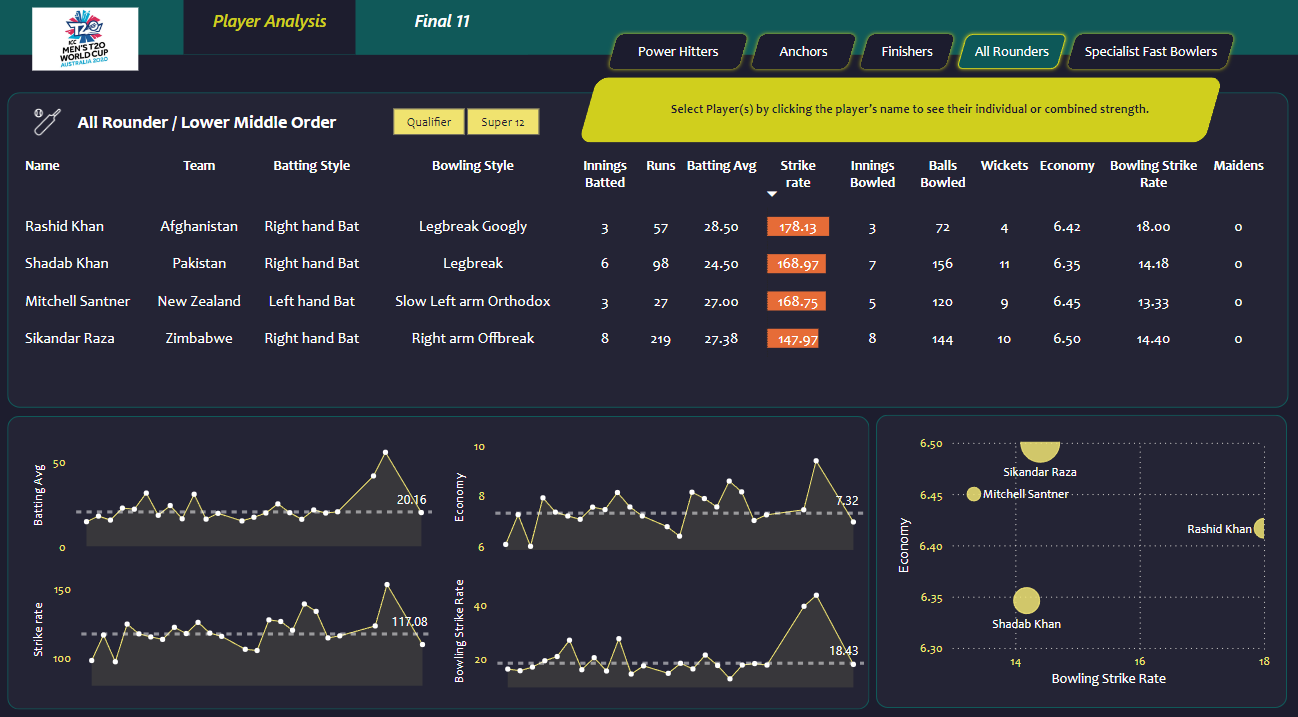

This screenshot's page, from the dashboard's own definition file:
{"tool":"powerbi","page":{"name":"All Rounder /Low","canvas":[640,720],"ordinal":7},"visuals":[{"type":"shape","box":[320.6,19,260,30.9],"z":0,"group":"g1"},{"type":"shape","box":[72,241.7,260,32],"z":0,"group":"g2"},{"type":"shape","box":[10,470,620,241.2],"z":0},{"type":"shape","box":[72,486.7,260,32],"z":0,"group":"g4"},{"type":"image","box":[270.8,16.5,44,36],"z":1000,"group":"g1"},{"type":"shape","box":[10,191.2,620,273.8],"z":1000},{"type":"shape","box":[0,0,640,176.2],"z":2000},{"type":"textbox","box":[964.9,274.5,80.7,31.1],"z":3000},{"type":"simpleImageEBC4593F96F1425FB3D84C5BF02B5075","fields":{"imageURL":["dim_player.image"],"altText":["dim_player.name"]},"box":[103.8,16.2,153.8,160],"z":4000},{"type":"shape","box":[285.3,91,262.7,29.1],"z":5000},{"type":"shape","box":[285.3,123.8,83.6,21.8],"z":6000},{"type":"shape","box":[270.8,91,11.8,58.2],"z":7000},{"type":"group","id":"g1","title":"Group 2","box":[270.8,16.5,309.8,36],"z":8000},{"type":"shape","box":[59,160,520,63.6],"z":8000,"group":"g3"},{"type":"group","id":"g2","title":"Group 2","box":[72,241.7,260,32],"z":9000},{"type":"group","id":"g3","title":"Group 1","box":[59,160,520,63.6],"z":10000},{"type":"card","fields":{"Values":["Key_Measures.Bat Avg"]},"box":[82.8,161.3,91.8,60],"z":10000,"group":"g3"},{"type":"card","fields":{"Values":["Key_Measures.Strike rate"]},"box":[199.2,161.3,92.7,60],"z":11000,"group":"g3"},{"type":"shape","box":[18.4,297.5,65,43.8],"z":11000},{"type":"card","fields":{"Values":["Key_Measures.Economy"]},"box":[316.5,161.3,109.1,60],"z":12000,"group":"g3"},{"type":"shape","box":[18.1,388.9,65,43.8],"z":12000},{"type":"card","fields":{"Values":["Key_Measures.Bowling Strike Rate"]},"box":[453.7,161.3,100,60],"z":13000,"group":"g3"},{"type":"shape","box":[18.1,561,65,43.8],"z":13000},{"type":"shape","box":[18.1,642.8,65,42.5],"z":14000},{"type":"image","box":[20,239,44,36],"z":15000},{"type":"group","id":"g4","title":"Group 2","box":[72,486.7,260,32],"z":16000},{"type":"image","box":[20,484,43.8,36.2],"z":17000},{"type":"pivotTable","fields":{"Columns":["dim_match_summary.Match"],"Values":["Key_Measures.Bat Avg"]},"box":[81,286,549,74],"z":18000},{"type":"pivotTable","fields":{"Columns":["dim_match_summary.Match"],"Values":["Key_Measures.Strike rate"]},"box":[84,380,549,70],"z":19000},{"type":"pivotTable","fields":{"Columns":["dim_match_summary.Match"],"Values":["Key_Measures.Bowling Strike Rate"]},"box":[84,633,549,69],"z":20000},{"type":"pivotTable","fields":{"Columns":["dim_match_summary.Match"],"Values":["Key_Measures.Economy"]},"box":[84,551,550,68],"z":21000}]}

Visuals, with their boxes on the page's 640x720 design canvas (x1, y1, x2, y2). These are canvas units, not pixel positions in the 1298x717 screenshot, which may show the page scaled, cropped or inside an application window:
shape: (321, 19, 581, 50)
shape: (72, 242, 332, 274)
shape: (10, 470, 630, 711)
shape: (72, 487, 332, 519)
image: (271, 16, 315, 52)
shape: (10, 191, 630, 465)
shape: (0, 0, 640, 176)
textbox: (965, 274, 1046, 306)
simpleImageEBC4593F96F1425FB3D84C5BF02B5075 - dim_player.image x dim_player.name: (104, 16, 258, 176)
shape: (285, 91, 548, 120)
shape: (285, 124, 369, 146)
shape: (271, 91, 283, 149)
"Group 2" group: (271, 16, 581, 52)
shape: (59, 160, 579, 224)
"Group 2" group: (72, 242, 332, 274)
"Group 1" group: (59, 160, 579, 224)
card - Key_Measures.Bat Avg: (83, 161, 175, 221)
card - Key_Measures.Strike rate: (199, 161, 292, 221)
shape: (18, 298, 83, 341)
card - Key_Measures.Economy: (316, 161, 426, 221)
shape: (18, 389, 83, 433)
card - Key_Measures.Bowling Strike Rate: (454, 161, 554, 221)
shape: (18, 561, 83, 605)
shape: (18, 643, 83, 685)
image: (20, 239, 64, 275)
"Group 2" group: (72, 487, 332, 519)
image: (20, 484, 64, 520)
pivotTable - dim_match_summary.Match x Key_Measures.Bat Avg: (81, 286, 630, 360)
pivotTable - dim_match_summary.Match x Key_Measures.Strike rate: (84, 380, 633, 450)
pivotTable - dim_match_summary.Match x Key_Measures.Bowling Strike Rate: (84, 633, 633, 702)
pivotTable - dim_match_summary.Match x Key_Measures.Economy: (84, 551, 634, 619)
